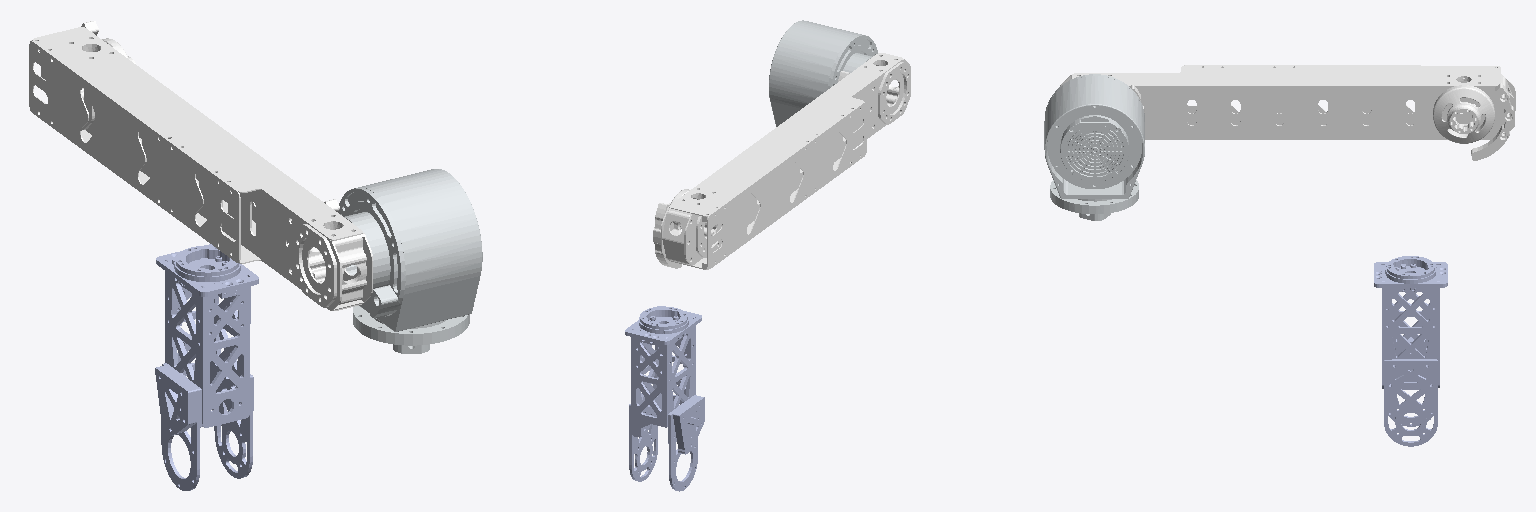
The robot description file, URDF, robot "robo_arm6":
<?xml version="1.0" encoding="utf-8"?>
<!-- This URDF was automatically created by SolidWorks to URDF Exporter! Originally created by Stephen Brawner (brawner@gmail.com) 
     Commit Version: 1.6.0-4-g7f85cfe  Build Version: 1.6.7995.38578
     For more information, please see http://wiki.ros.org/sw_urdf_exporter -->
<robot
  name="robo_arm6">
  <link
    name="base_link">
    <inertial>
      <origin
        xyz="-2.77555756156289E-17 1.38777878078145E-17 0.0237295145896128"
        rpy="0 0 0" />
      <mass
        value="0.221707850812672" />
      <inertia
        ixx="0.000129009433567113"
        ixy="5.0821976835258E-20"
        ixz="1.13853792365339E-20"
        iyy="0.000129009433567113"
        iyz="-1.13948298638165E-21"
        izz="0.000250000920269705" />
    </inertial>
    <visual>
      <origin
        xyz="0 0 0"
        rpy="0 0 0" />
      <geometry>
        <mesh
          filename="package://robo_arm6/meshes/base_link.STL" />
      </geometry>
      <material
        name="">
        <color
          rgba="0.898039215686275 0.917647058823529 0.929411764705882 1" />
      </material>
    </visual>
    <collision>
      <origin
        xyz="0 0 0"
        rpy="0 0 0" />
      <geometry>
        <mesh
          filename="package://robo_arm6/meshes/base_link.STL" />
      </geometry>
    </collision>
  </link>
  <link
    name="link1">
    <inertial>
      <origin
        xyz="-0.010369 -1.6053E-05 0.05425"
        rpy="0 0 0" />
      <mass
        value="0.86231" />
      <inertia
        ixx="0.001335"
        ixy="-1.1514E-08"
        ixz="2.4594E-05"
        iyy="0.00090906"
        iyz="1.6965E-07"
        izz="0.00083542" />
    </inertial>
    <visual>
      <origin
        xyz="0 0 0"
        rpy="0 0 0" />
      <geometry>
        <mesh
          filename="package://robo_arm6/meshes/link1.STL" />
      </geometry>
      <material
        name="">
        <color
          rgba="0.89804 0.91765 0.92941 1" />
      </material>
    </visual>
    <collision>
      <origin
        xyz="0 0 0"
        rpy="0 0 0" />
      <geometry>
        <mesh
          filename="package://robo_arm6/meshes/link1.STL" />
      </geometry>
    </collision>
  </link>
  <joint
    name="joint1"
    type="revolute">
    <origin
      xyz="0 0 0.0265"
      rpy="0 0 0" />
    <parent
      link="base_link" />
    <child
      link="link1" />
    <axis
      xyz="0 0 1" />
    <limit
      lower="-3.14"
      upper="3.14"
      effort="0"
      velocity="0" />
  </joint>
  <link
    name="link2">
    <inertial>
      <origin
        xyz="0.2234 0.00074741 0.015853"
        rpy="0 0 0" />
      <mass
        value="0.66132" />
      <inertia
        ixx="0.00032661"
        ixy="2.6574E-06"
        ixz="-2.1568E-05"
        iyy="0.0063813"
        iyz="6.8045E-08"
        izz="0.0065664" />
    </inertial>
    <visual>
      <origin
        xyz="0 0 0"
        rpy="0 0 0" />
      <geometry>
        <mesh
          filename="package://robo_arm6/meshes/link2.STL" />
      </geometry>
      <material
        name="">
        <color
          rgba="1 1 1 1" />
      </material>
    </visual>
    <collision>
      <origin
        xyz="0 0 0"
        rpy="0 0 0" />
      <geometry>
        <mesh
          filename="package://robo_arm6/meshes/link2.STL" />
      </geometry>
    </collision>
  </link>
  <joint
    name="joint2"
    type="revolute">
    <origin
      xyz="-0.0557 0 0.063"
      rpy="-1.57 0 1.57" />
    <parent
      link="link1" />
    <child
      link="link2" />
    <axis
      xyz="0 0 1" />
    <limit
      lower="-3.14"
      upper="3.14"
      effort="0"
      velocity="0" />
  </joint>
  <link
    name="link3">
    <inertial>
      <origin
        xyz="0.030122287191117 -0.070802517471287 -0.0327349362450563"
        rpy="0 0 0" />
      <mass
        value="0.807641444812927" />
      <inertia
        ixx="0.000665129907988155"
        ixy="1.82026300764787E-05"
        ixz="3.31017689449403E-06"
        iyy="0.000736397278790779"
        iyz="-5.62187884775328E-05"
        izz="0.000992283570147904" />
    </inertial>
    <visual>
      <origin
        xyz="0 0 0"
        rpy="0 0 0" />
      <geometry>
        <mesh
          filename="package://robo_arm6/meshes/link3.STL" />
      </geometry>
      <material
        name="">
        <color
          rgba="1 1 1 1" />
      </material>
    </visual>
    <collision>
      <origin
        xyz="0 0 0"
        rpy="0 0 0" />
      <geometry>
        <mesh
          filename="package://robo_arm6/meshes/link3.STL" />
      </geometry>
    </collision>
  </link>
  <joint
    name="joint3"
    type="revolute">
    <origin
      xyz="0.38 0 -0.01983"
      rpy="0 0 3.14" />
    <parent
      link="link2" />
    <child
      link="link3" />
    <axis
      xyz="0 0 -1" />
    <limit
      lower="-1.57"
      upper="4.71"
      effort="0"
      velocity="0" />
  </joint>
  <link
    name="link4">
    <inertial>
      <origin
        xyz="0.00051276 0.002109 0.057091"
        rpy="0 0 0" />
      <mass
        value="0.22515" />
      <inertia
        ixx="0.00014646"
        ixy="1.8726E-07"
        ixz="-8.6201E-07"
        iyy="0.00017021"
        iyz="1.2082E-06"
        izz="6.5841E-05" />
    </inertial>
    <visual>
      <origin
        xyz="0 0 0"
        rpy="0 0 0" />
      <geometry>
        <mesh
          filename="package://robo_arm6/meshes/link4.STL" />
      </geometry>
      <material
        name="">
        <color
          rgba="0.79216 0.81961 0.93333 1" />
      </material>
    </visual>
    <collision>
      <origin
        xyz="0 0 0"
        rpy="0 0 0" />
      <geometry>
        <mesh
          filename="package://robo_arm6/meshes/link4.STL" />
      </geometry>
    </collision>
  </link>
  <joint
    name="joint4"
    type="revolute">
    <origin
      xyz="0.054993 -0.15447 -0.039"
      rpy="1.5708 0 0" />
    <parent
      link="link3" />
    <child
      link="link4" />
    <axis
      xyz="0 0 1" />
    <limit
      lower="0"
      upper="6.28"
      effort="0"
      velocity="0" />
  </joint>
  <link
    name="link5">
    <inertial>
      <origin
        xyz="0.0393999971839371 -0.00170042083363471 0.0323232478643395"
        rpy="0 0 0" />
      <mass
        value="0.273022749052879" />
      <inertia
        ixx="6.13587294921289E-05"
        ixy="1.91390406727832E-07"
        ixz="2.79660153456187E-08"
        iyy="8.3134676325538E-05"
        iyz="3.47934636854636E-07"
        izz="9.4972895240991E-05" />
    </inertial>
    <visual>
      <origin
        xyz="0 0 0"
        rpy="0 0 0" />
      <geometry>
        <mesh
          filename="package://robo_arm6/meshes/link5.STL" />
      </geometry>
      <material
        name="">
        <color
          rgba="0.698039215686274 0.698039215686274 0.698039215686274 1" />
      </material>
    </visual>
    <collision>
      <origin
        xyz="0 0 0"
        rpy="0 0 0" />
      <geometry>
        <mesh
          filename="package://robo_arm6/meshes/link5.STL" />
      </geometry>
    </collision>
  </link>
  <joint
    name="joint5"
    type="revolute">
    <origin
      xyz="0 -0.031 0.1572"
      rpy="-1.5708 1.5708 0" />
    <parent
      link="link4" />
    <child
      link="link5" />
    <axis
      xyz="0 0 1" />
    <limit
      lower="0"
      upper="6.28"
      effort="0"
      velocity="0" />
  </joint>
  <link
    name="link6">
    <inertial>
      <origin
        xyz="-2.5199E-12 -1.2682E-11 0.020912"
        rpy="0 0 0" />
      <mass
        value="0.19559" />
      <inertia
        ixx="0.00011065"
        ixy="-3.6524E-17"
        ixz="3.1544E-18"
        iyy="0.00011065"
        iyz="1.5396E-17"
        izz="0.00019269" />
    </inertial>
    <visual>
      <origin
        xyz="0 0 0"
        rpy="0 0 0" />
      <geometry>
        <mesh
          filename="package://robo_arm6/meshes/link6.STL" />
      </geometry>
      <material
        name="">
        <color
          rgba="0.29804 0.29804 0.29804 1" />
      </material>
    </visual>
    <collision>
      <origin
        xyz="0 0 0"
        rpy="0 0 0" />
      <geometry>
        <mesh
          filename="package://robo_arm6/meshes/link6.STL" />
      </geometry>
    </collision>
  </link>
  <joint
    name="joint6"
    type="revolute">
    <origin
      xyz="0.096475 0 0.032"
      rpy="0 1.5708 0" />
    <parent
      link="link5" />
    <child
      link="link6" />
    <axis
      xyz="0 0 1" />
    <limit
      lower="-3.14"
      upper="3.14"
      effort="0"
      velocity="0" />
  </joint>
</robot>

--- What the picture shows (computed from the rendered views, not written in the file) ---
Views: 3 orthographic renders of the robot side by side, from view 1: azimuth 30°, elevation 25°; view 2: azimuth 150°, elevation 25°; view 3: azimuth 270°, elevation 25°.
Robot: robo_arm6 — 7 links, 6 joints (6 revolute); root link base_link; default pose: every joint at zero.
Links seen in each view (by area): view 1: link2, link4, link1, base_link; view 2: link2, link4, link1; view 3: link2, link1, link4, base_link.
Link boxes in pixels (x1,y1,x2,y2): link2: [29, 21, 372, 310]; link4: [155, 244, 258, 490]; link1: [339, 169, 482, 331]; base_link: [353, 306, 469, 353]; link2: [653, 53, 910, 269]; link4: [625, 306, 704, 491]; link1: [769, 20, 877, 126]; link2: [1060, 65, 1515, 160]; link1: [1044, 74, 1144, 201]; link4: [1374, 256, 1447, 446]; base_link: [1050, 180, 1138, 220].
Size in the robot's own frame: 0.1506 by 0.4848 by 0.3915 metres.
4 mesh visuals loaded from 7 distinct referenced files (4 binary STL); not drawn: 3 (reference not matched to a file when rendering).
